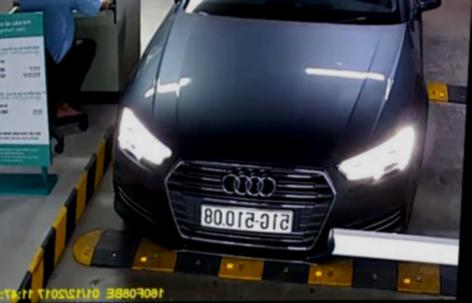License_Plate: (195, 205, 296, 232)
